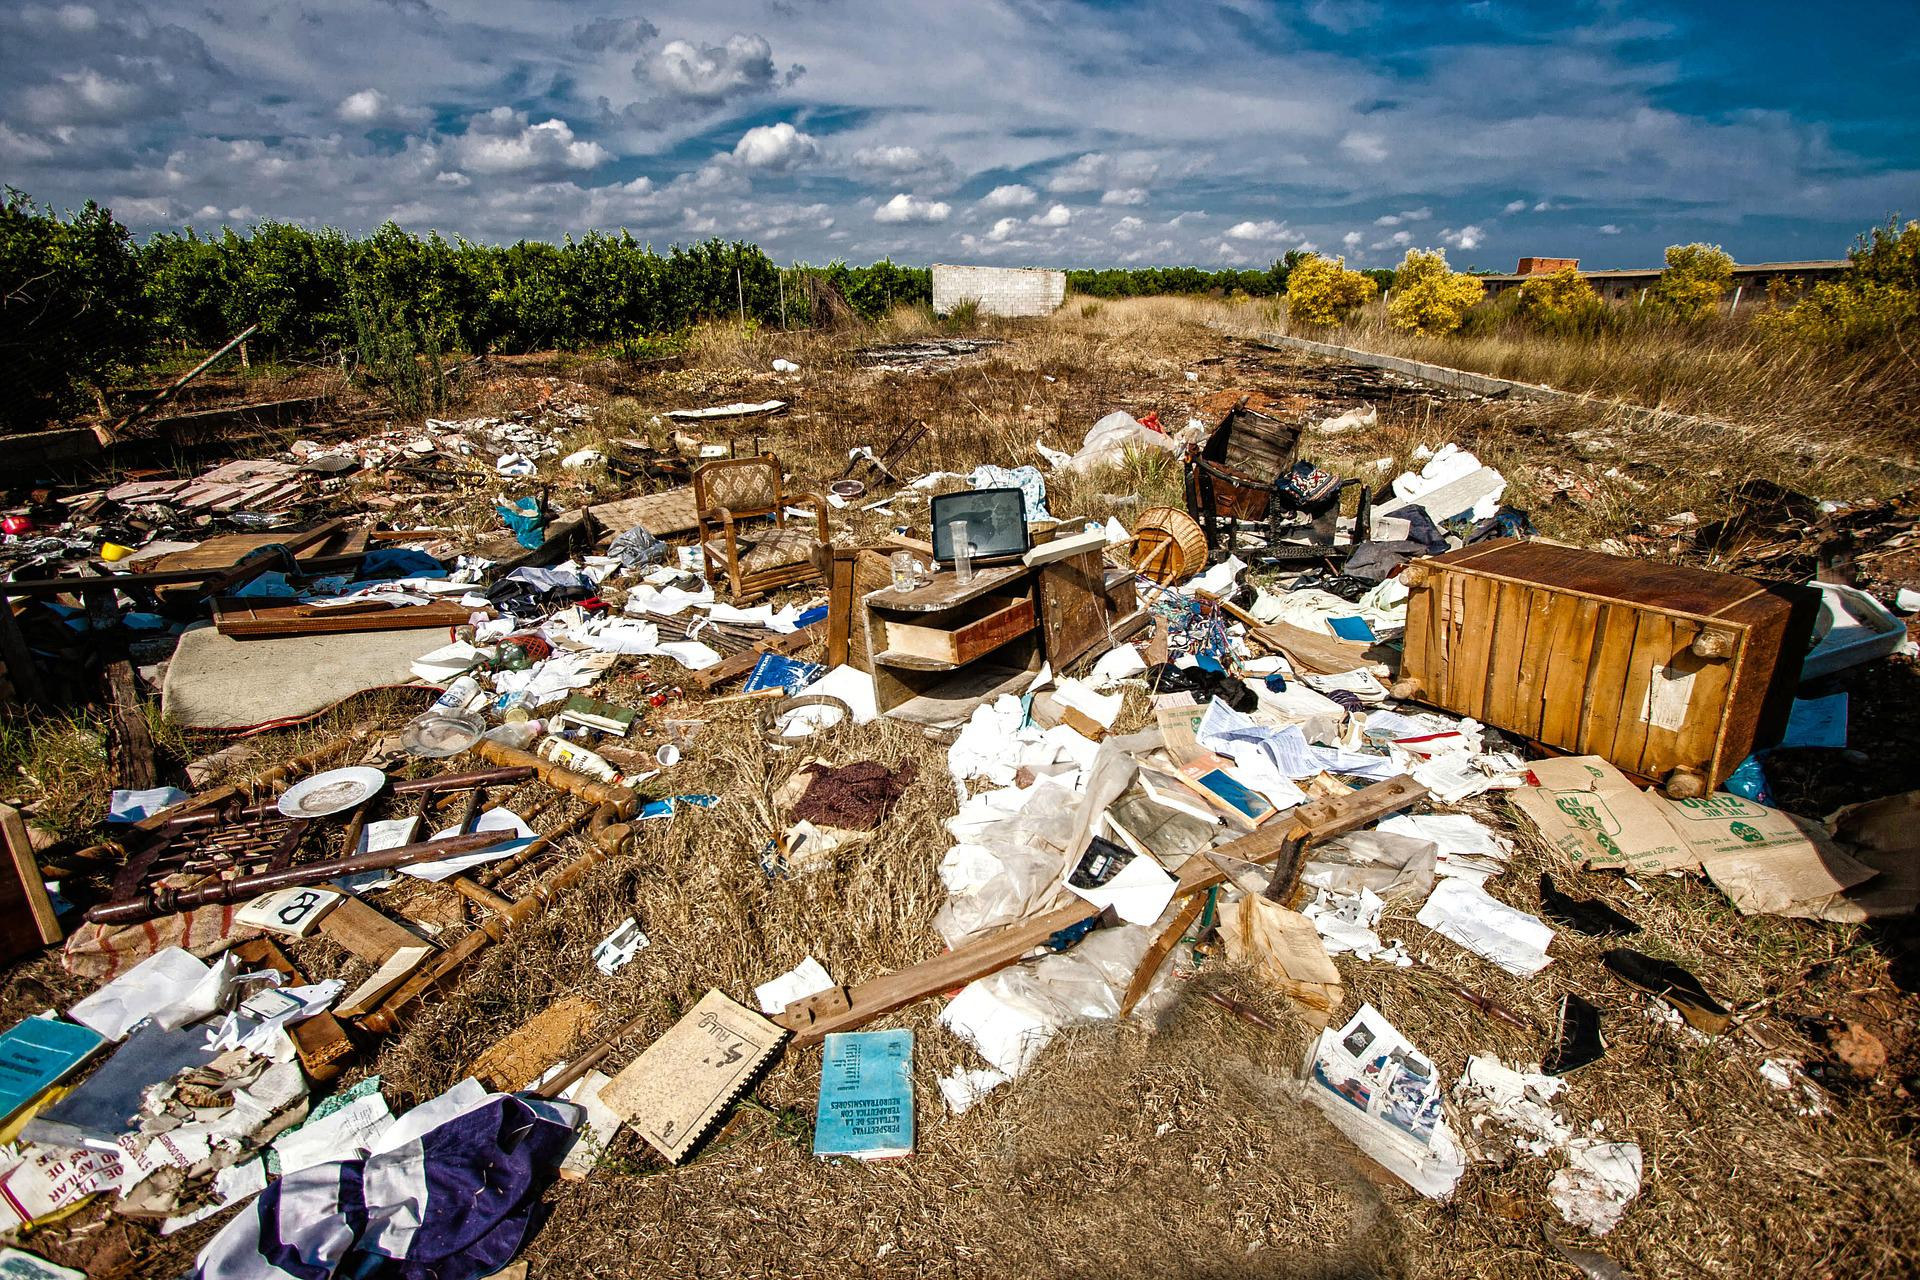wood: (1389, 529, 1800, 804), (859, 531, 1109, 754), (693, 464, 837, 609), (141, 473, 311, 531)
